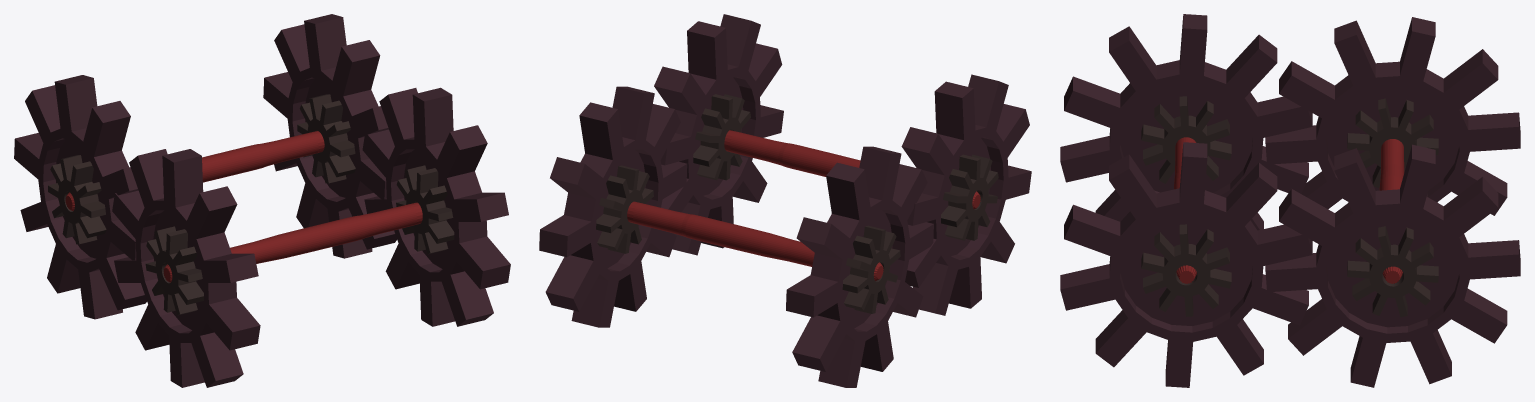
Rendered from Gears_Aframe.glb.
3 renders of one model, left to right at view 1: azimuth 30°, elevation 25°; view 2: azimuth 150°, elevation 25°; view 3: azimuth 270°, elevation 25°, orthographic. The views are drawn at different scales.
Visible parts, largest first — view 1: Gear_5, Gear_4, Gear_6, Gear_3, Middle_Rotate_2, Middle_Gear_5, Middle_Gear_6, Middle_Gear_4, Middle_Gear_3, Middle_Rotate_1; view 2: Gear_6, Gear_3, Gear_5, Gear_4, Middle_Rotate_1, Middle_Gear_5, Middle_Gear_6, Middle_Gear_4, Middle_Gear_3, Middle_Rotate_2; view 3: Gear_3, Gear_4, Gear_5, Gear_6, Middle_Gear_3, Middle_Gear_4, Middle_Gear_5, Middle_Gear_6, Middle_Rotate_1, Middle_Rotate_2.
Boxes of the visible parts, bbox=[...] form: Gear_5: bbox=[112, 149, 260, 387]; Gear_4: bbox=[362, 87, 510, 326]; Gear_6: bbox=[14, 75, 146, 319]; Gear_3: bbox=[263, 14, 396, 258]; Middle_Rotate_2: bbox=[163, 202, 422, 282]; Middle_Gear_5: bbox=[145, 226, 203, 315]; Middle_Gear_6: bbox=[48, 155, 106, 244]; Middle_Gear_4: bbox=[396, 165, 454, 254]; Middle_Gear_3: bbox=[297, 94, 355, 183]; Middle_Rotate_1: bbox=[65, 131, 324, 211]; Gear_6: bbox=[786, 146, 933, 387]; Gear_3: bbox=[539, 86, 687, 327]; Gear_5: bbox=[901, 74, 1031, 315]; Gear_4: bbox=[654, 14, 783, 255]; Middle_Rotate_1: bbox=[627, 201, 883, 280]; Middle_Gear_5: bbox=[941, 154, 998, 240]; Middle_Gear_6: bbox=[842, 225, 900, 313]; Middle_Gear_4: bbox=[693, 94, 750, 180]; Middle_Gear_3: bbox=[596, 165, 653, 253]; Middle_Rotate_2: bbox=[724, 130, 980, 209]; Gear_3: bbox=[1265, 144, 1520, 387]; Gear_4: bbox=[1060, 142, 1312, 387]; Gear_5: bbox=[1060, 14, 1312, 230]; Gear_6: bbox=[1265, 17, 1520, 215]; Middle_Gear_3: bbox=[1347, 226, 1438, 317]; Middle_Gear_4: bbox=[1141, 224, 1231, 316]; Middle_Gear_5: bbox=[1141, 96, 1231, 183]; Middle_Gear_6: bbox=[1347, 98, 1438, 188]; Middle_Rotate_1: bbox=[1379, 139, 1404, 283]; Middle_Rotate_2: bbox=[1174, 137, 1196, 283].
Bounding box in the file's own units: 0.2148 × 0.1559 × 0.2812.
